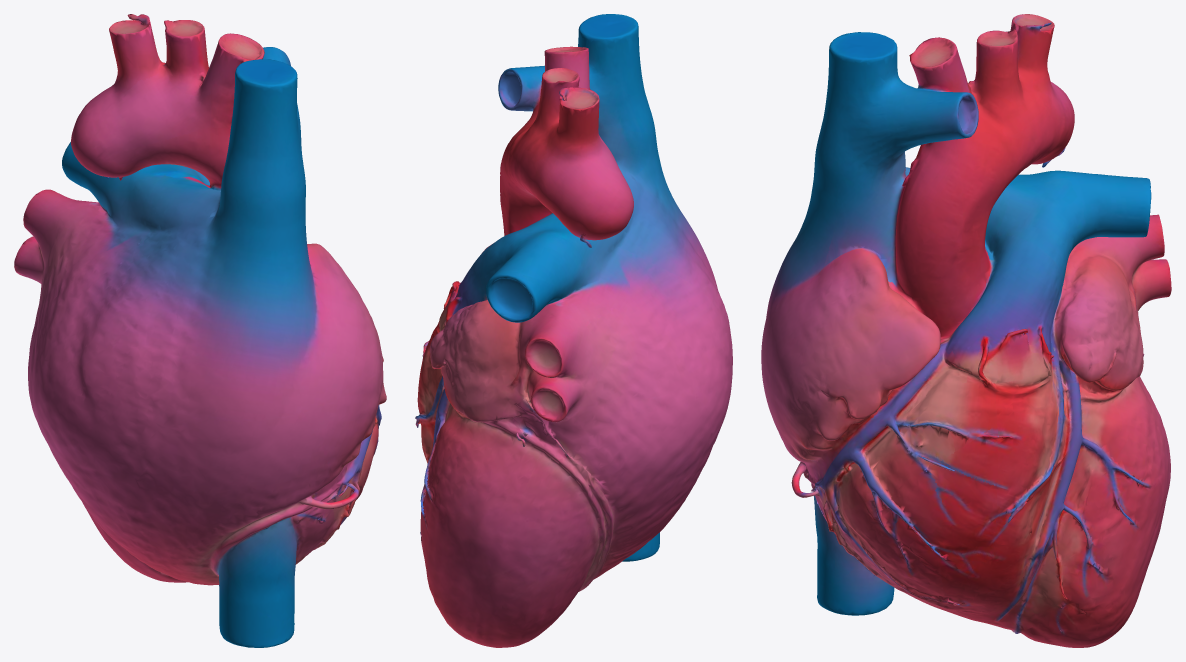
File: heart.glb
3 views of the same model, side by side, from view 1: azimuth 30°, elevation 25°; view 2: azimuth 150°, elevation 25°; view 3: azimuth 270°, elevation 25° (orthographic). The views are drawn at different scales.
Visible parts, largest first — view 1: tripo_node_a904c0bd_tripo_mat_a904c0bd_0; view 2: tripo_node_a904c0bd_tripo_mat_a904c0bd_0; view 3: tripo_node_a904c0bd_tripo_mat_a904c0bd_0.
Boxes of the visible parts, x1=… form: tripo_node_a904c0bd_tripo_mat_a904c0bd_0: x1=14, y1=14, x2=386, y2=647; tripo_node_a904c0bd_tripo_mat_a904c0bd_0: x1=415, y1=14, x2=732, y2=647; tripo_node_a904c0bd_tripo_mat_a904c0bd_0: x1=761, y1=14, x2=1171, y2=647.
Size of the model in its own units: 0.5394 by 0.9999 by 0.627.
Materials: 1 (1 with a texture image).
